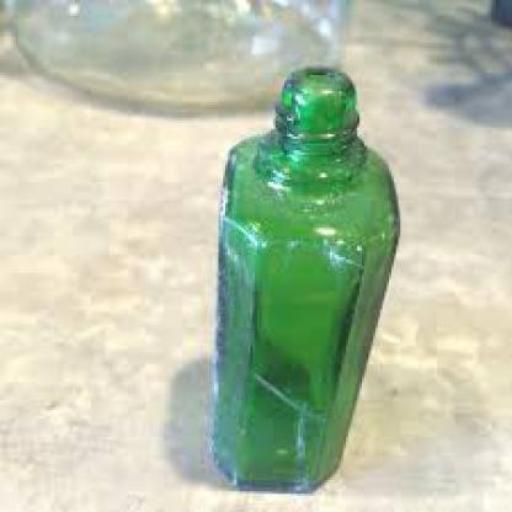glass: (209, 66, 399, 487), (8, 0, 348, 114)
